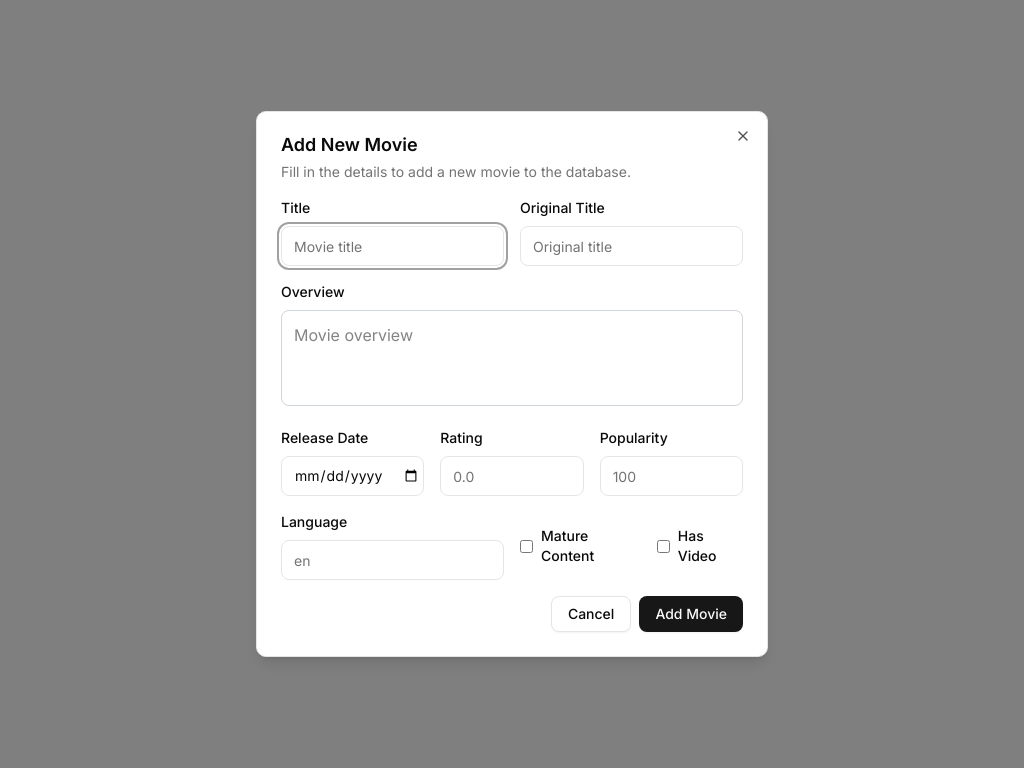
Test: MovieForm › should show validation errors for empty required fields
The width and height of the screenshot is (1024, 768).
Click the button "Add Movie". click: {"x": 691, "y": 614}
box: [639, 596, 743, 632]
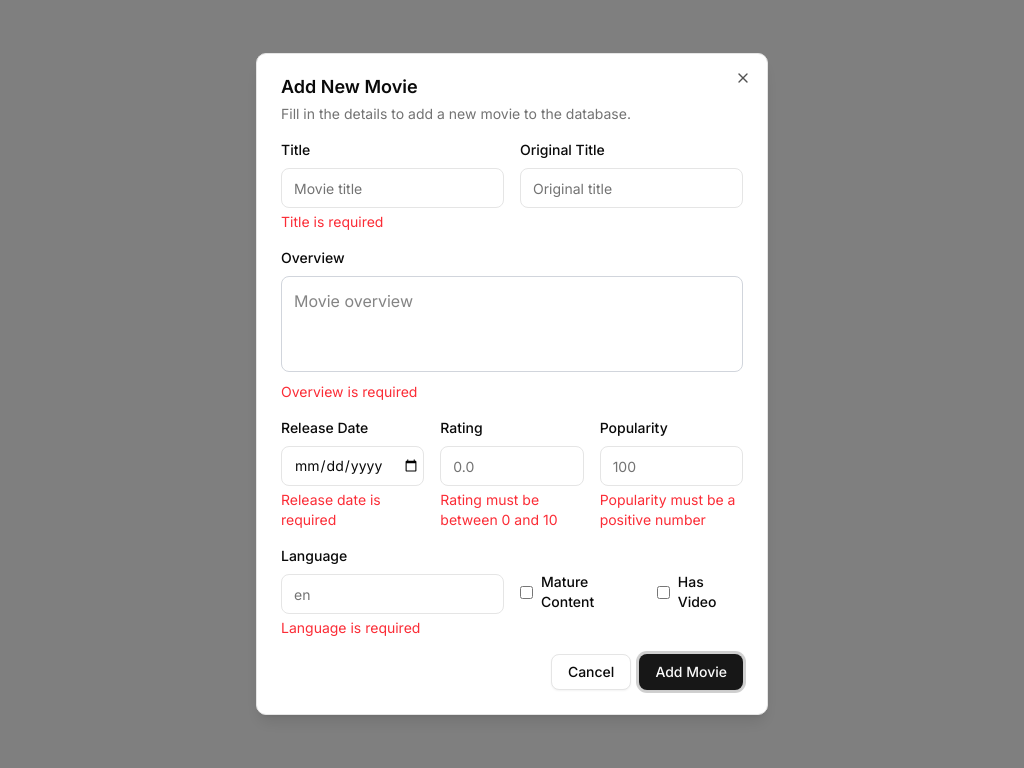
Expected: the text "Title is required" is shown, [281, 213, 383, 230]
Expected: the text "Overview is required" is shown, [281, 383, 418, 400]
Expected: the text "Release date is required" is shown, [281, 491, 381, 528]
